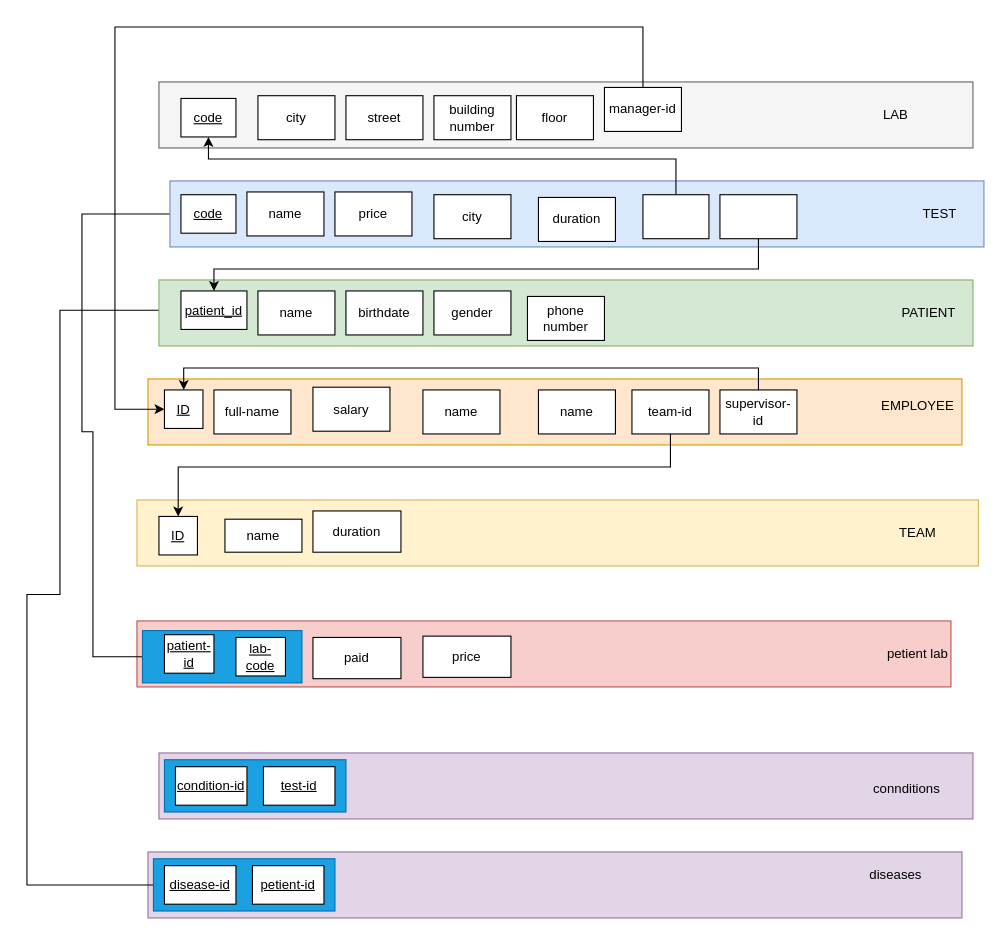
The diagram is 1003 pixels wide and 937 high, and some of its shapes have lost their labels. Each missing label, with the box of its shape:
lab-id: (642, 194, 709, 239)
patient id: (719, 194, 797, 239)
